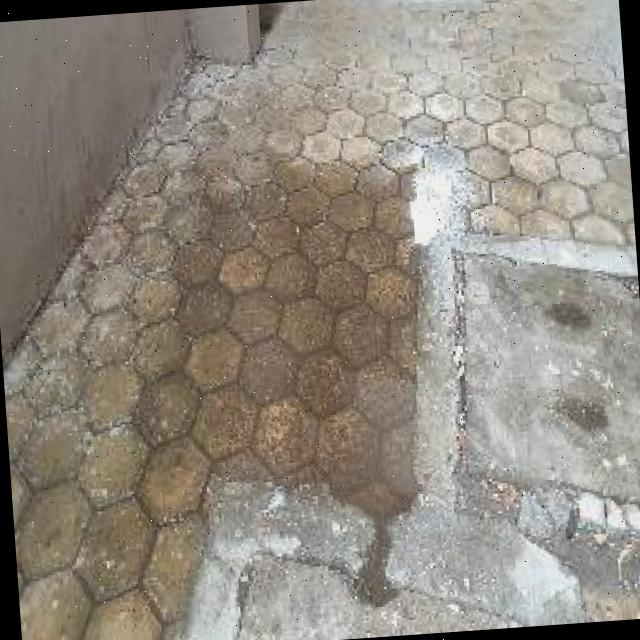stagnation: (158, 142, 438, 532)
